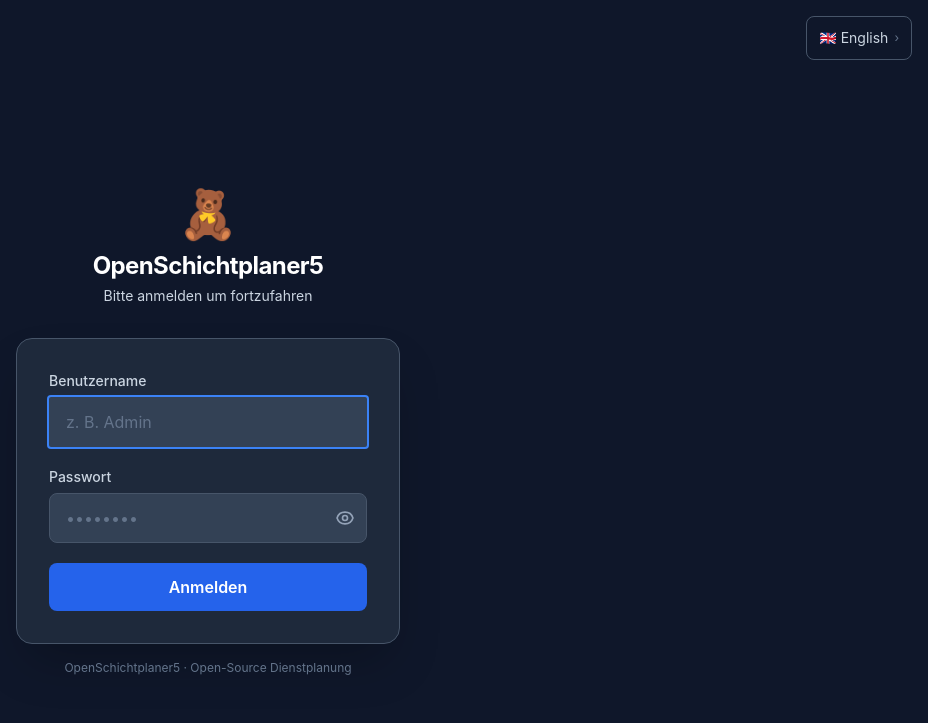
Login › shows error when login fails
Type "admin" into the field with placeholder "z. B. Admin" at (208, 422), box [49,397,367,447]
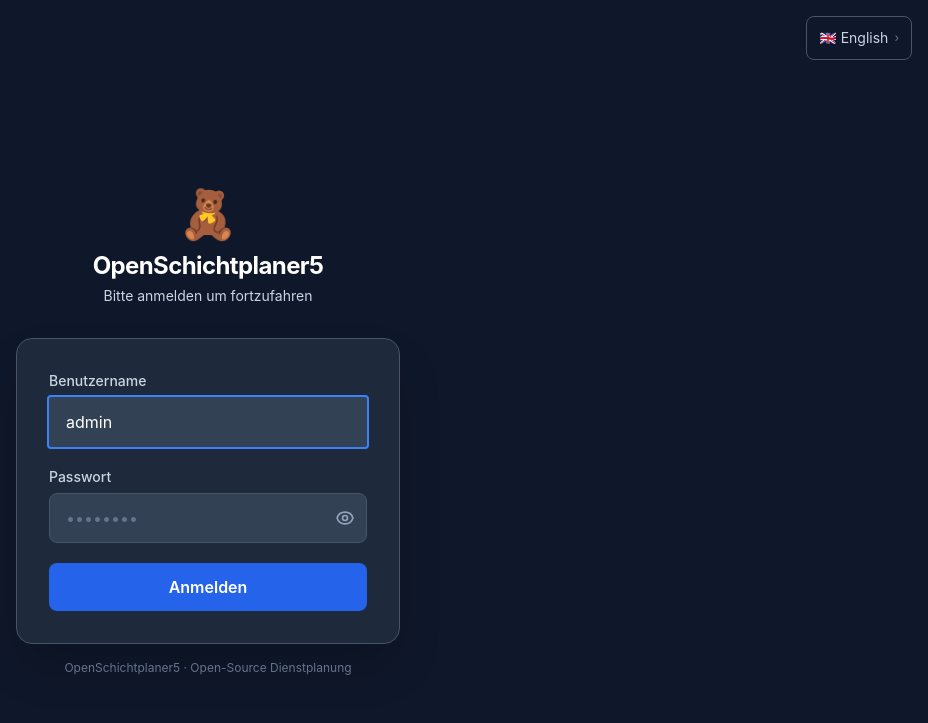
Click the button "Anmelden" at (208, 587), box [49,563,367,611]
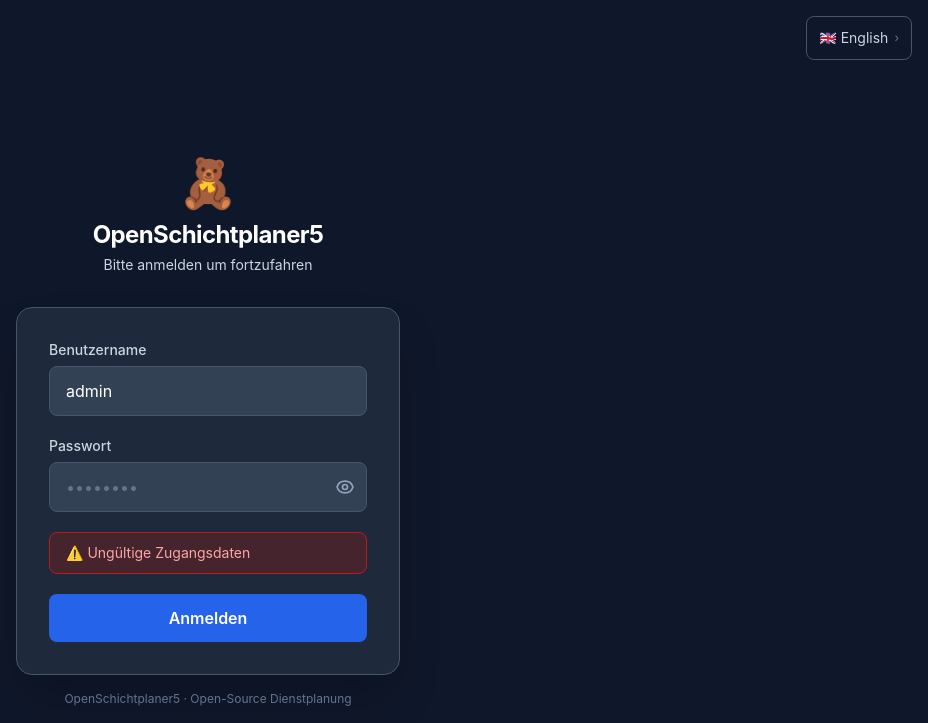
Expected: the text "⚠️ Ungültige Zugangsdaten" is shown, [49,532,367,574]
